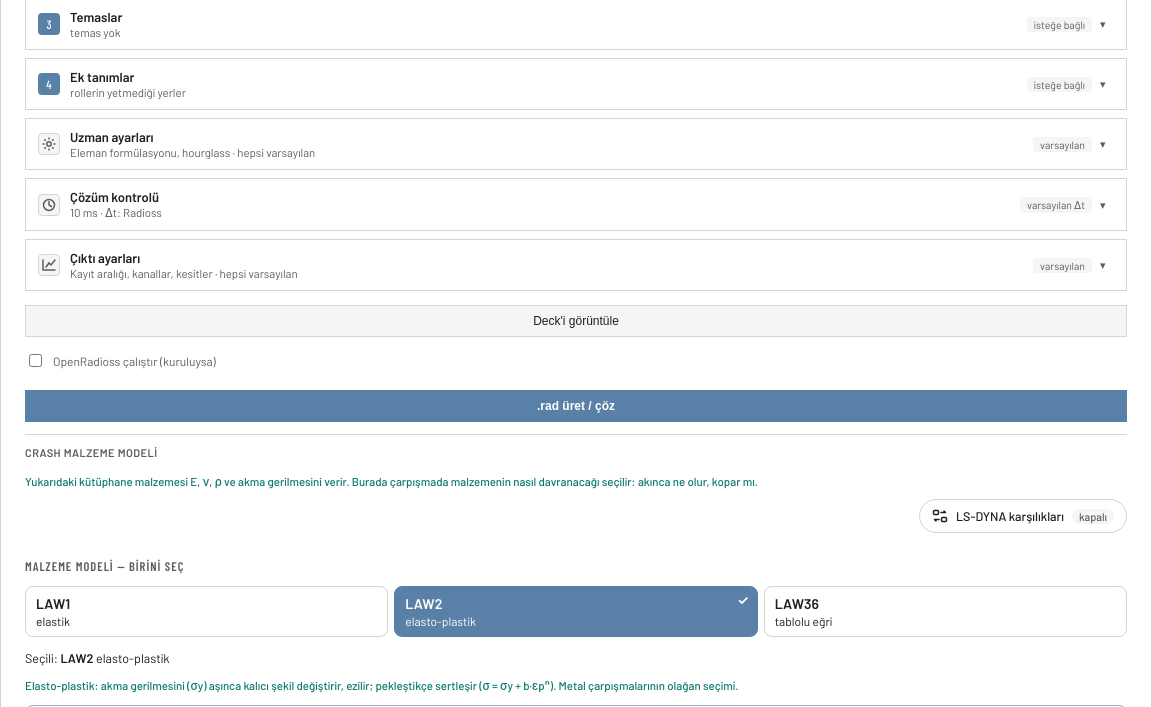
Test case: CrashPanel › 1.17g: iş bitince eski cycle satırı gösterilmez
(page scrolled)
Click the checkbox labelled "OpenRadioss çalıştır (kuruluysa)". click: (36, 361)
box: [29,354,42,367]
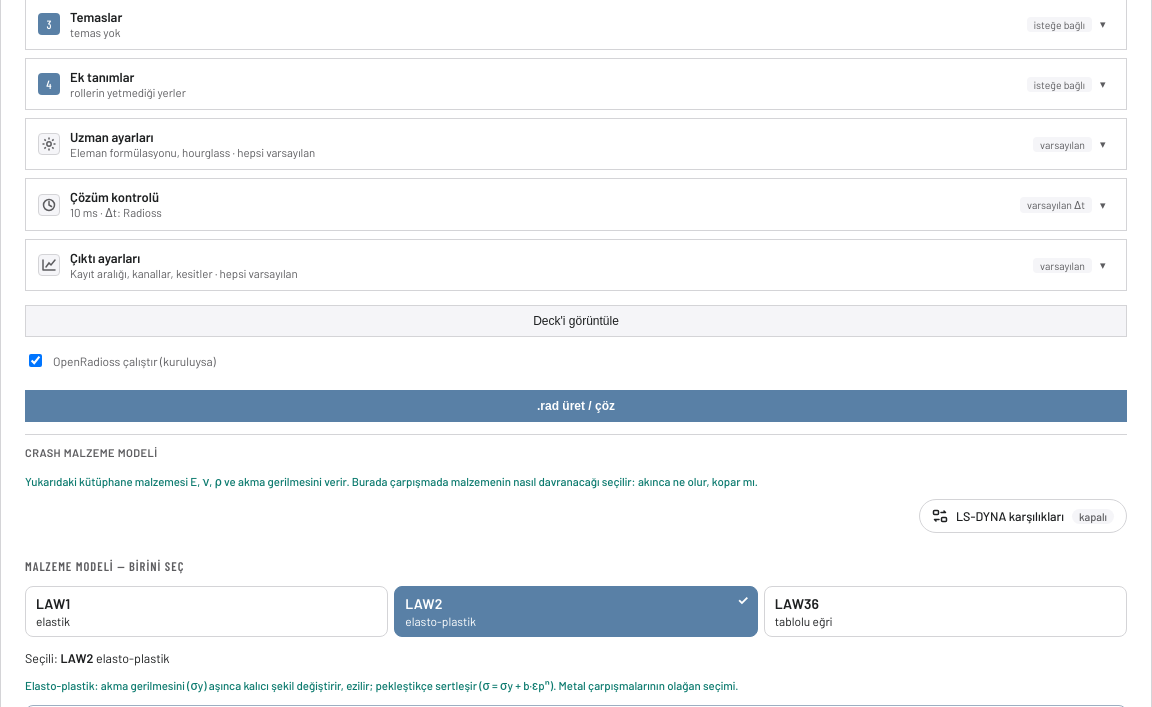
Click the button ".rad üret / çöz". click: (576, 406)
box: [25,390,1127,422]
(page scrolled)
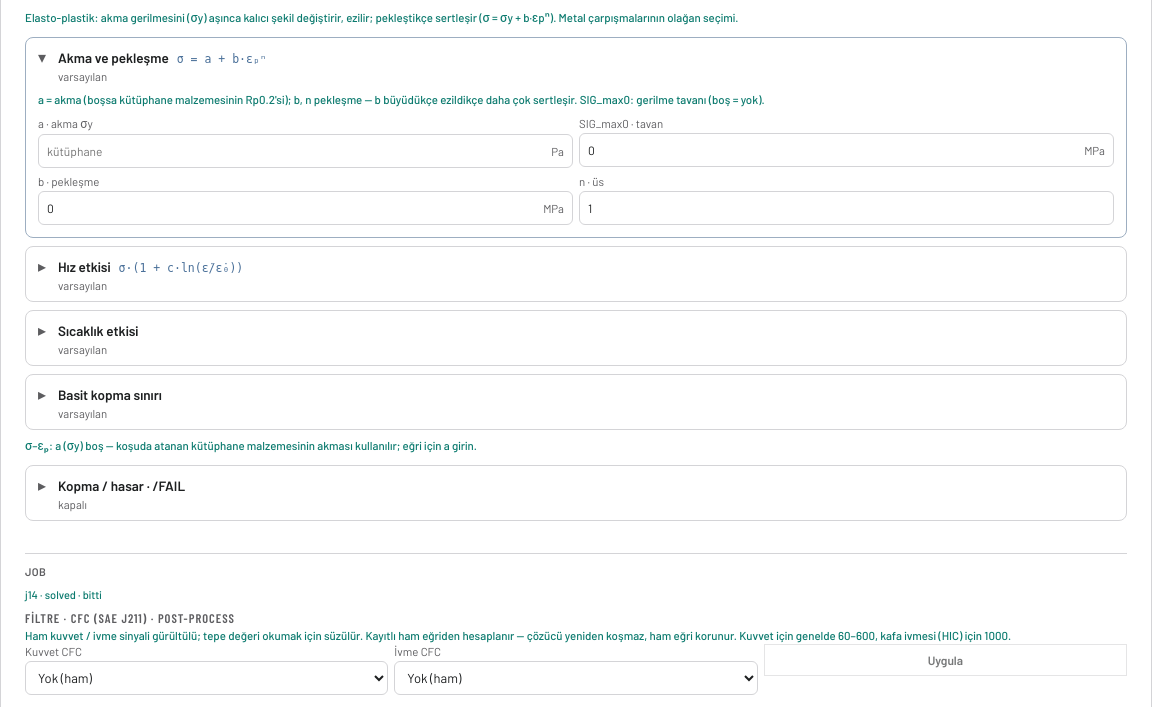
Check: the text "j14 · solved · bitti" is shown, box [25,588,102,601]
